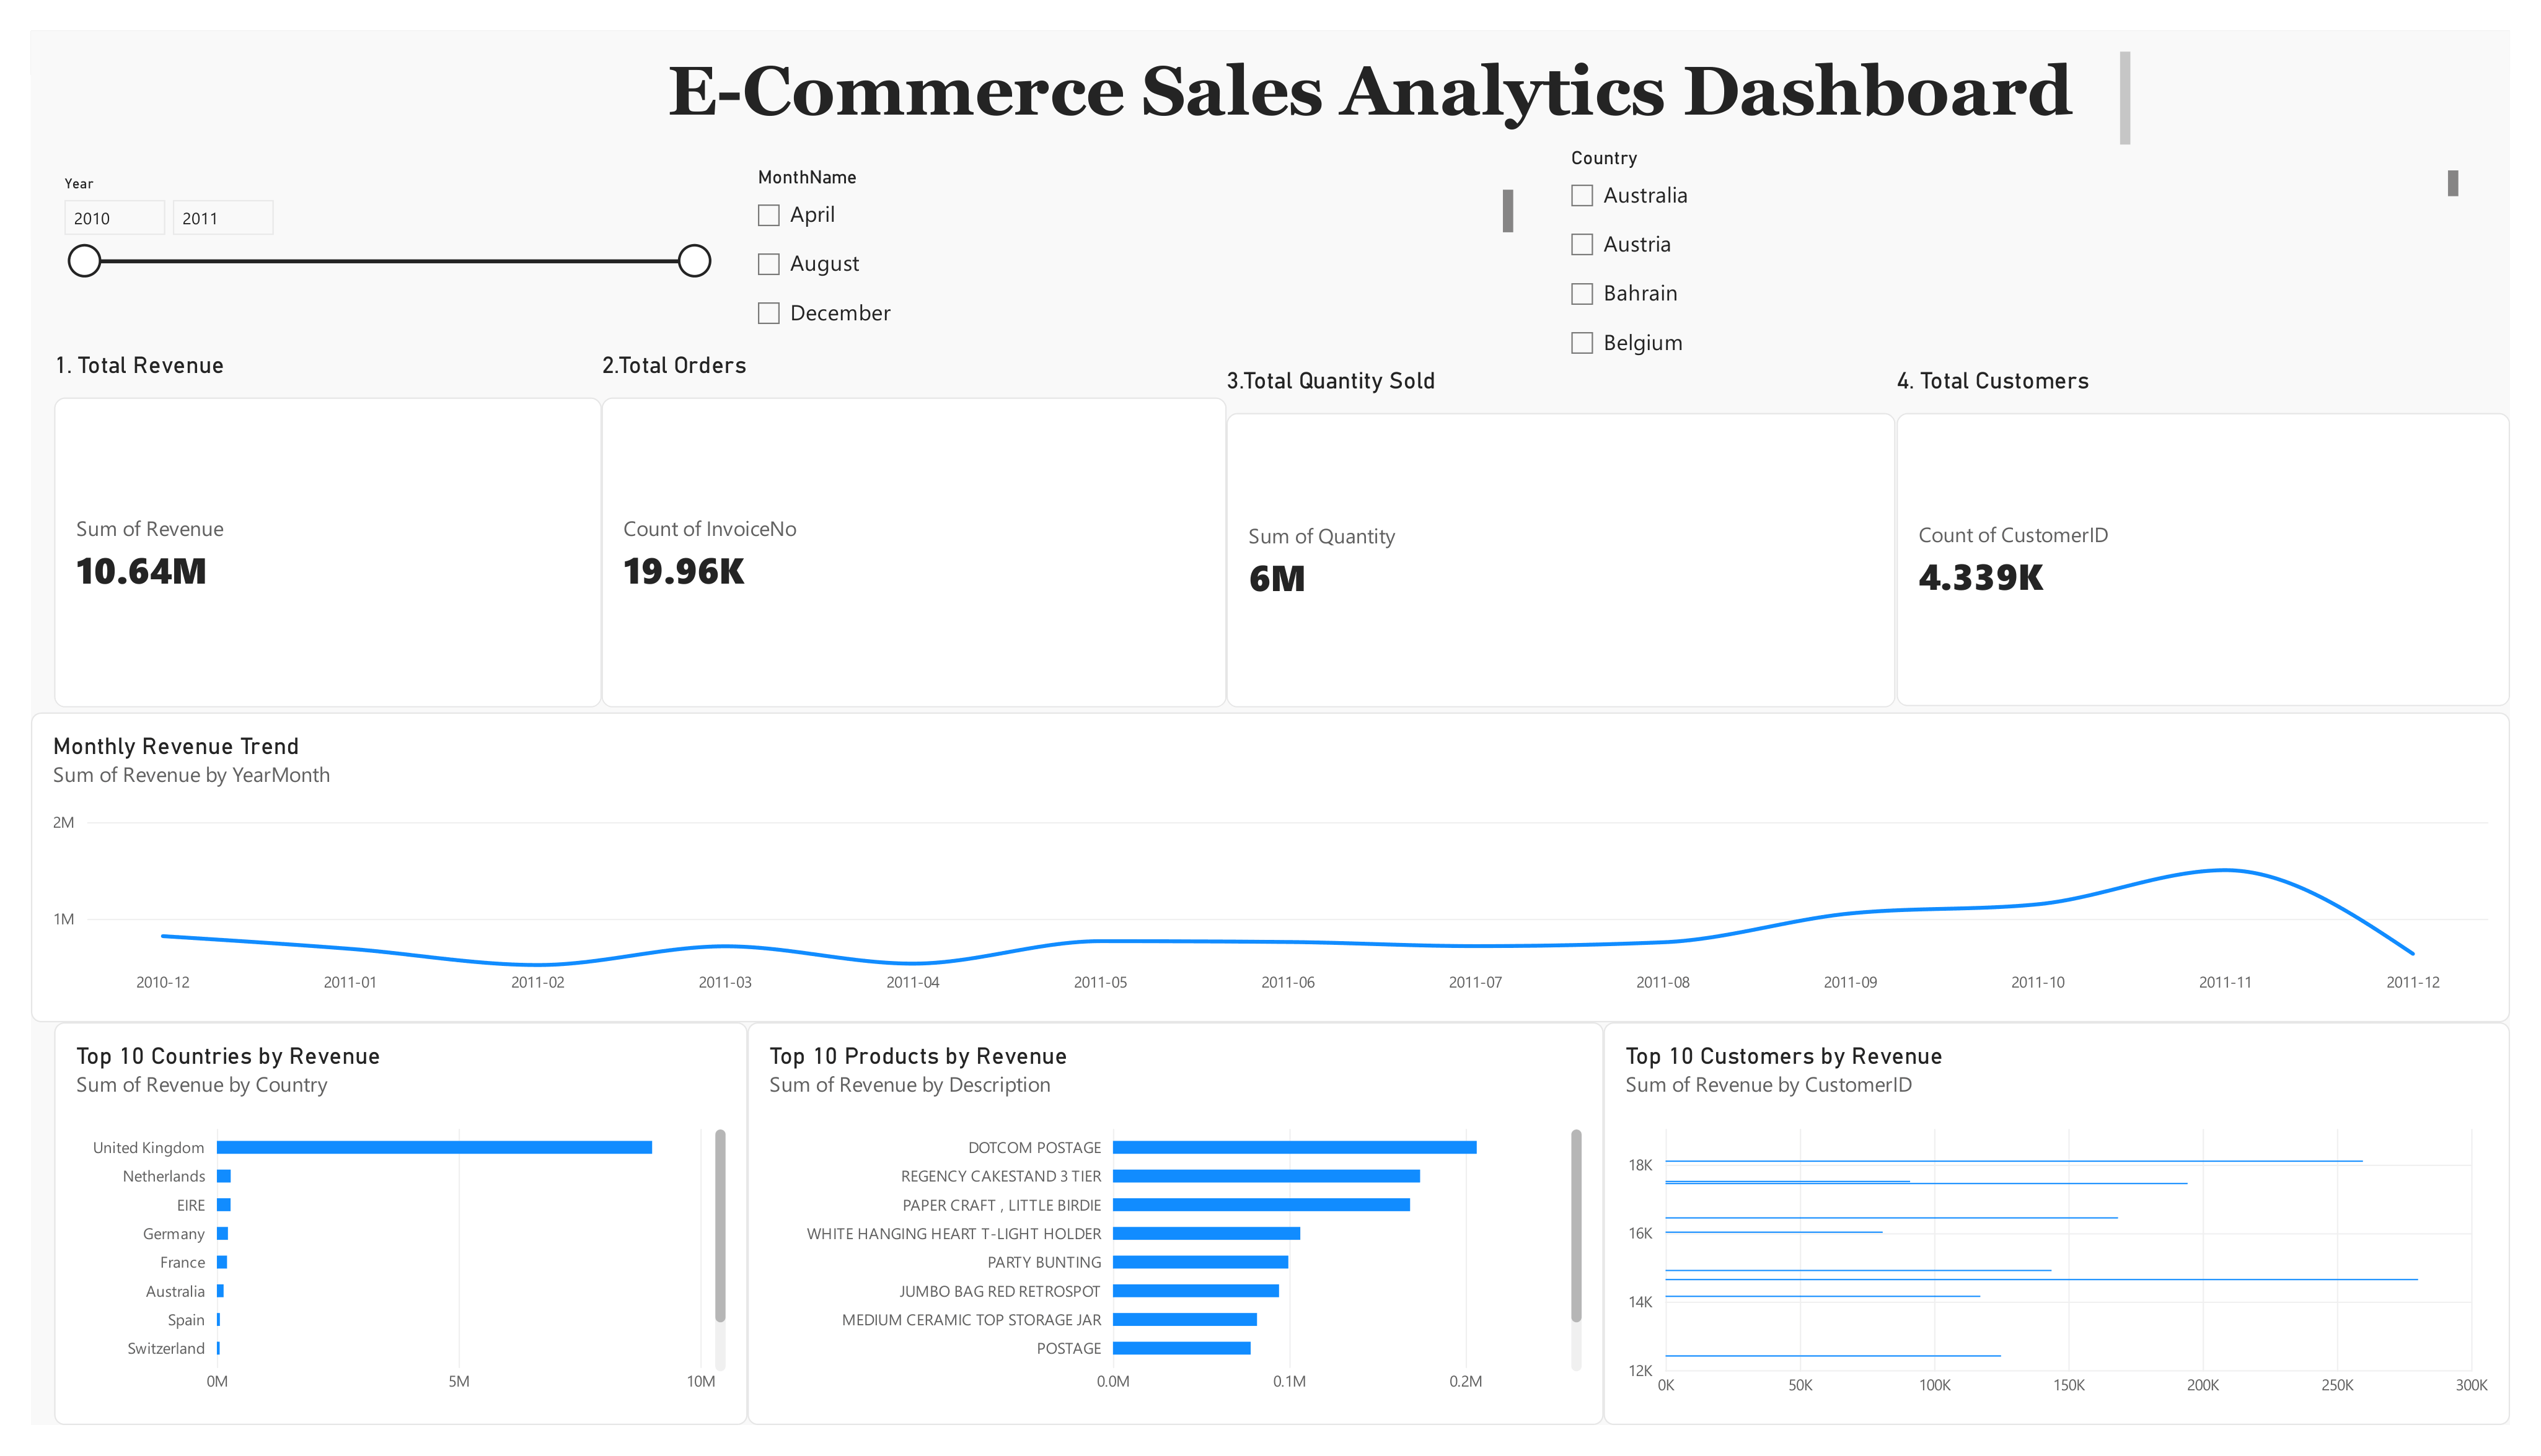

Layout of this report page (visuals, bound fields, positions):
{"tool":"powerbi","page":{"name":"Page 1","canvas":[1920,1080],"ordinal":0},"visuals":[{"type":"cardVisual","title":"1. Total Revenue","fields":{"Data":["Sum(online_retail_clean.Revenue)"]},"box":[18,248,424,280],"z":0},{"type":"cardVisual","title":"2.Total Orders","fields":{"Data":["Count(online_retail_clean.InvoiceNo)"]},"box":[442,248,484,280],"z":1},{"type":"cardVisual","title":"3.Total Quantity Sold","fields":{"Data":["Sum(online_retail_clean.Quantity)"]},"box":[926,260,518,268],"z":2},{"type":"cardVisual","title":"4. Total Customers","fields":{"Data":["Count(online_retail_clean.CustomerID)"]},"box":[1445,260,475,267.5],"z":3},{"type":"lineChart","title":"Monthly Revenue Trend","fields":{"Category":["online_retail_clean.YearMonth"],"Y":["Sum(online_retail_clean.Revenue)"]},"box":[0,527.5,1920,240],"z":4},{"type":"clusteredBarChart","title":"Top 10 Countries by Revenue","fields":{"Category":["online_retail_clean.Country"],"Y":["Sum(online_retail_clean.Revenue)"]},"box":[17.5,767.5,537.5,312.5],"z":5},{"type":"clusteredBarChart","title":"Top 10 Products by Revenue","fields":{"Category":["online_retail_clean.Description"],"Y":["Sum(online_retail_clean.Revenue)"]},"box":[555,767.5,662.5,312.5],"z":6},{"type":"clusteredBarChart","title":"Top 10 Customers by Revenue","fields":{"Category":["online_retail_clean.CustomerID"],"Y":["Sum(online_retail_clean.Revenue)"]},"box":[1217.5,767.5,702.5,312.5],"z":7},{"type":"slicer","fields":{"Values":["online_retail_clean.Year"]},"box":[18,112,511.6,114.5],"z":8},{"type":"slicer","fields":{"Values":["online_retail_clean.Country"]},"box":[1185,90,695,167.5],"z":9},{"type":"slicer","fields":{"Values":["online_retail_clean.MonthName"]},"box":[555,105,592.5,142.5],"z":10},{"type":"textbox","box":[456,16,1170,76],"z":12}]}

Visuals, with their boxes on the page's 1920x1080 design canvas (x1, y1, x2, y2). These are canvas units, not pixel positions in the 2541x1456 screenshot, which may show the page scaled, cropped or inside an application window:
"1. Total Revenue" cardVisual: region(18, 248, 442, 528)
"2.Total Orders" cardVisual: region(442, 248, 926, 528)
"3.Total Quantity Sold" cardVisual: region(926, 260, 1444, 528)
"4. Total Customers" cardVisual: region(1445, 260, 1920, 528)
"Monthly Revenue Trend" lineChart: region(0, 528, 1920, 768)
"Top 10 Countries by Revenue" clusteredBarChart: region(18, 768, 555, 1080)
"Top 10 Products by Revenue" clusteredBarChart: region(555, 768, 1218, 1080)
"Top 10 Customers by Revenue" clusteredBarChart: region(1218, 768, 1920, 1080)
slicer - online_retail_clean.Year: region(18, 112, 530, 226)
slicer - online_retail_clean.Country: region(1185, 90, 1880, 258)
slicer - online_retail_clean.MonthName: region(555, 105, 1148, 248)
textbox: region(456, 16, 1626, 92)
